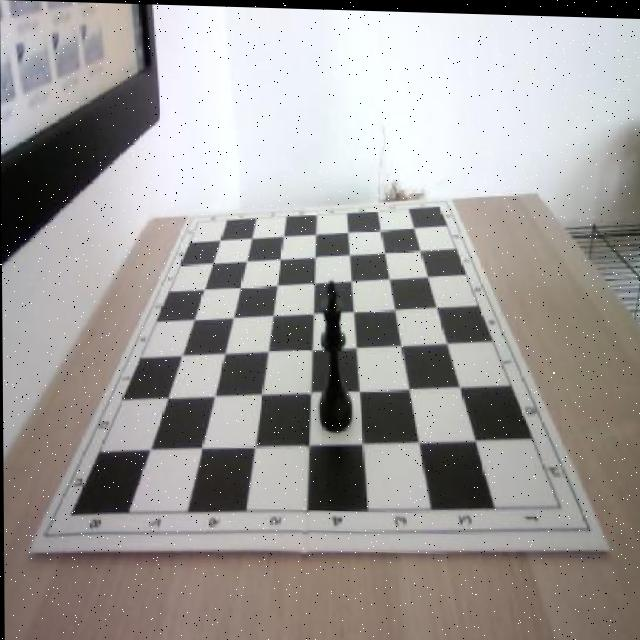black-bishop: (316, 277, 353, 431)
